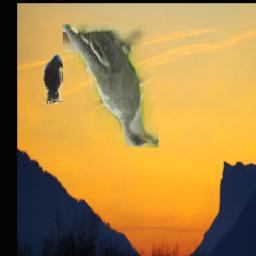Crow: (45, 55, 64, 105)
Cuckoo: (64, 24, 160, 148)
